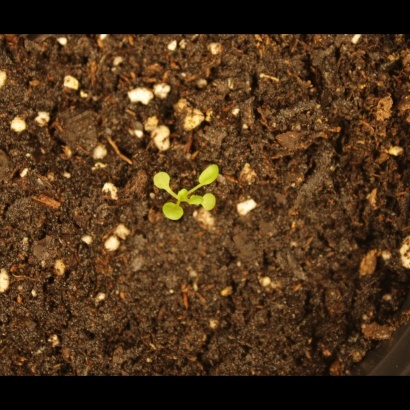leaf: (197, 161, 225, 187), (157, 200, 187, 223), (150, 168, 178, 192), (202, 194, 225, 217), (171, 184, 194, 207)
